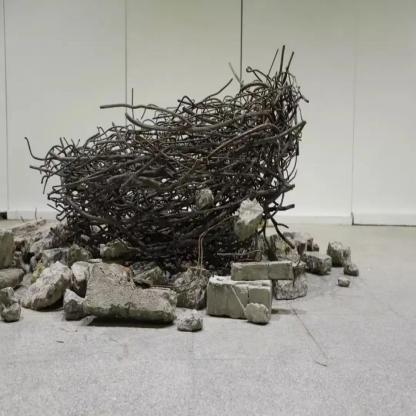rebar: (18, 43, 311, 291)
